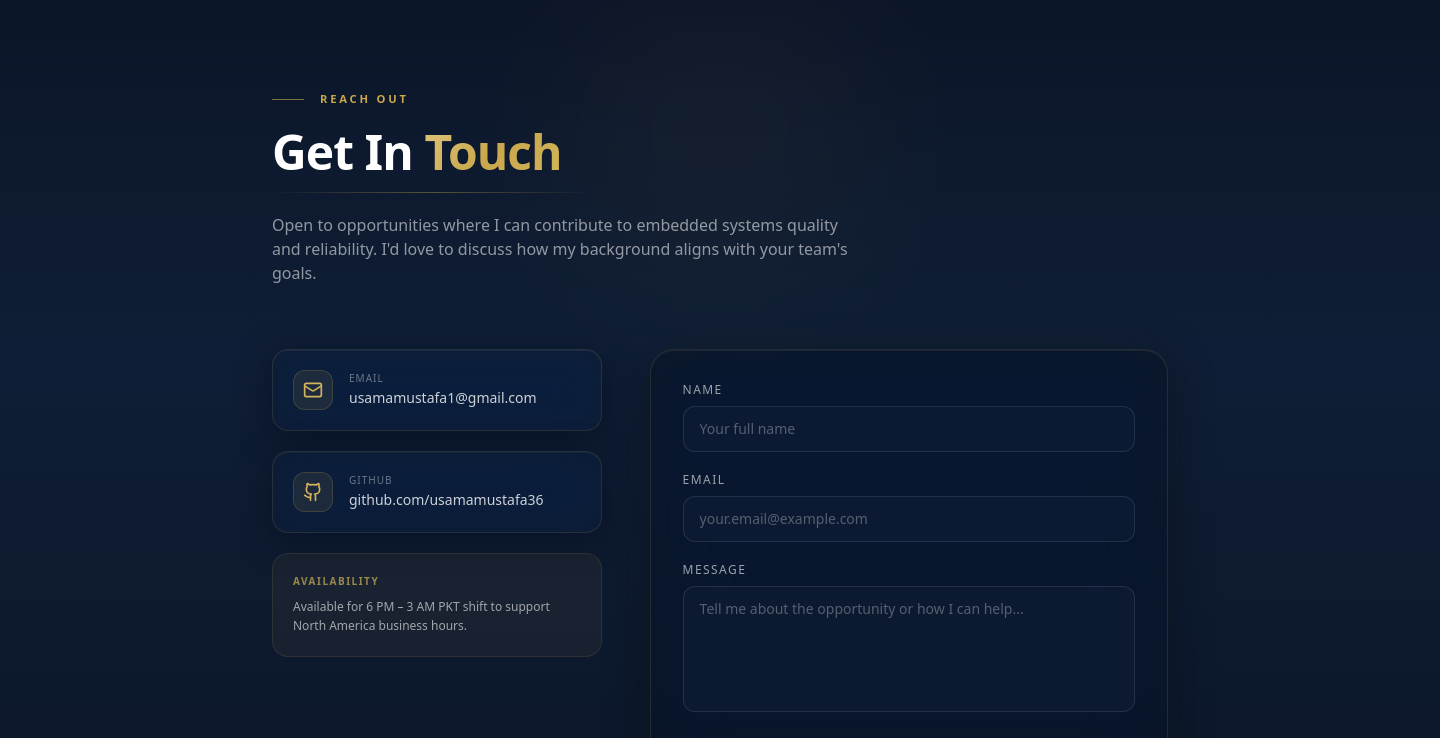
Test: Contact Component › validates email format
The image size is (1440, 738).
Type "John Doe" into the field labelled "Name".
click(909, 429); type("John Doe")  # box top-left (683, 406), bottom-right (1135, 452)
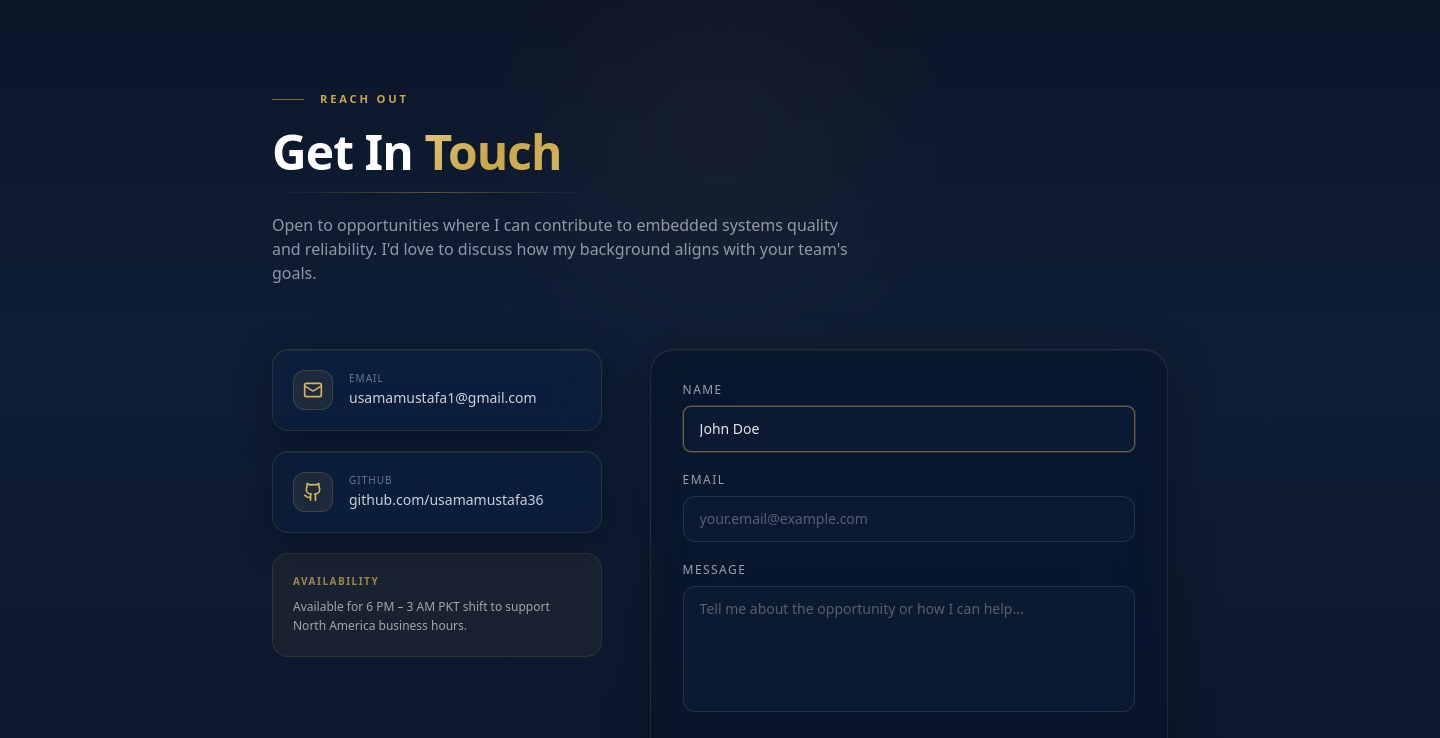
Type "invalid-email" into the field labelled "Email".
click(909, 519); type("invalid-email")  # box top-left (683, 496), bottom-right (1135, 542)
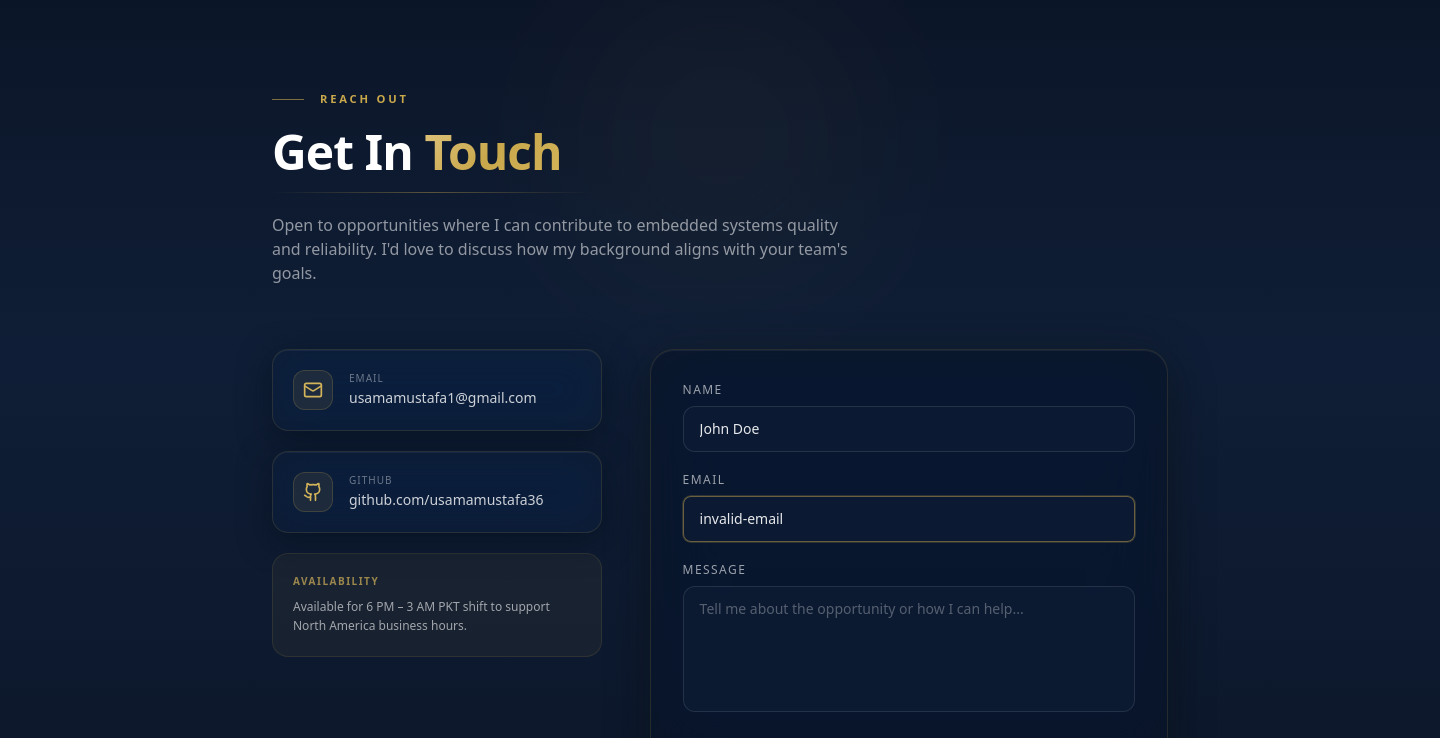
Type "This is a test message with enough characters" into the text box labelled "Message".
click(909, 649); type("This is a test message with enough characters")  # box top-left (683, 586), bottom-right (1135, 712)
(page scrolled)
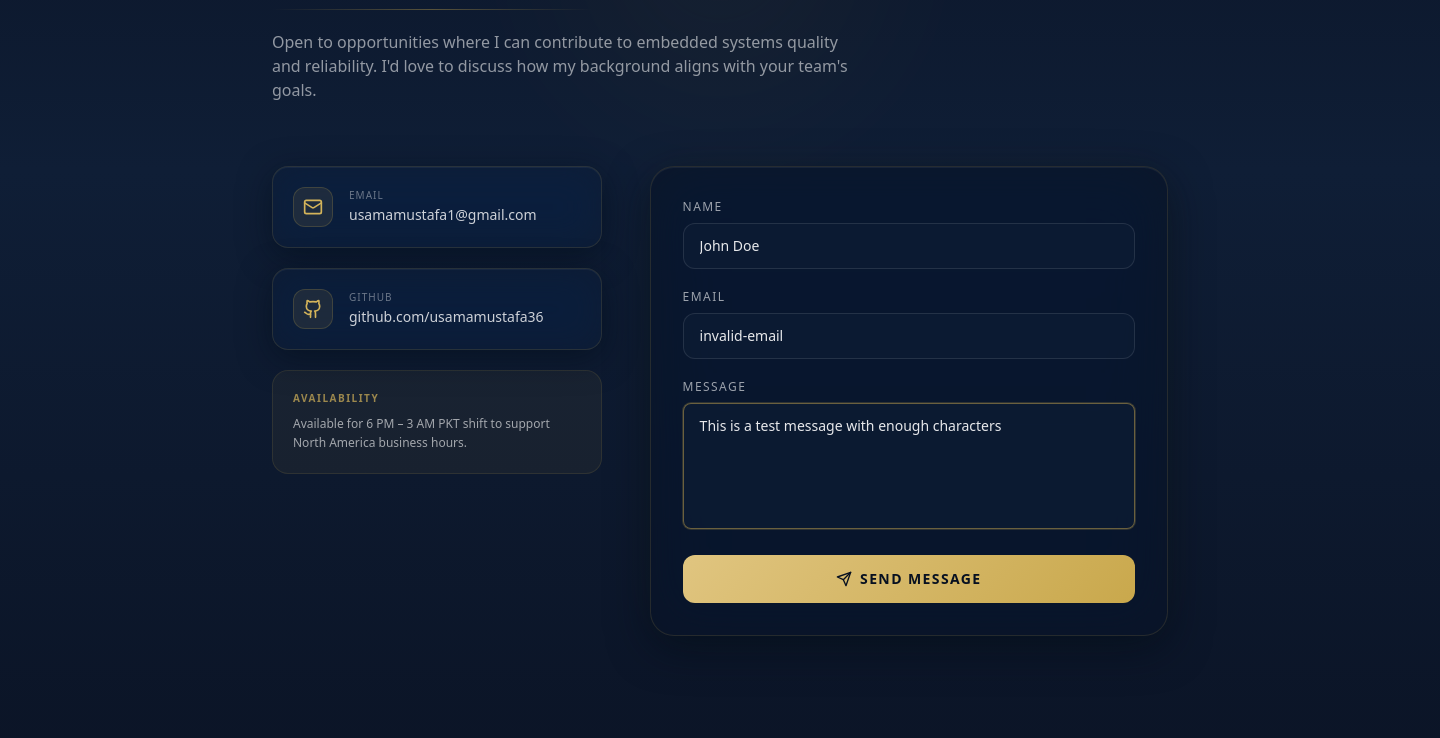
Submit the form "Name Email Message SEND MESSAGE", box top-left (683, 199), bottom-right (1135, 603)
Click the button "SEND MESSAGE".
click(909, 579)  # box top-left (683, 555), bottom-right (1135, 603)
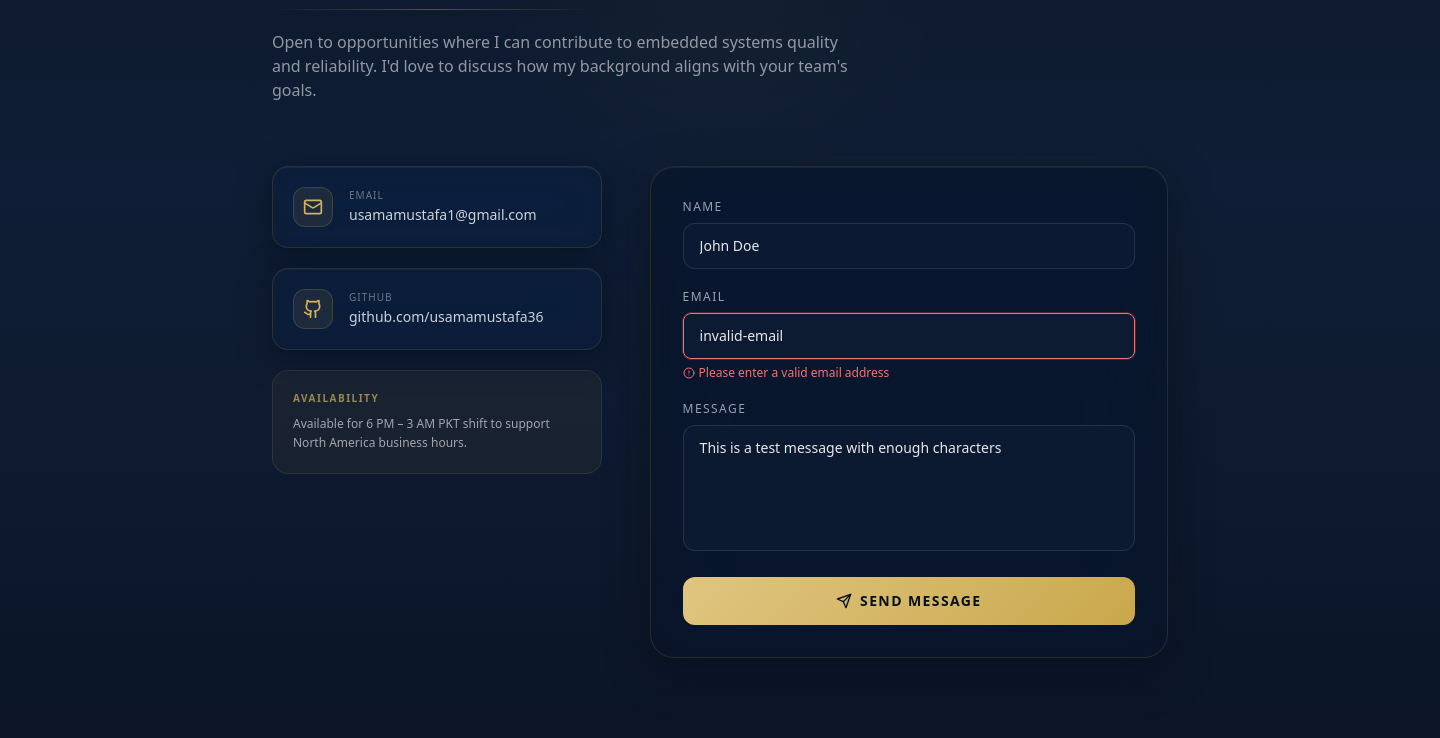
Now the text "Please enter a valid email address" is shown, box top-left (683, 364), bottom-right (889, 381)
